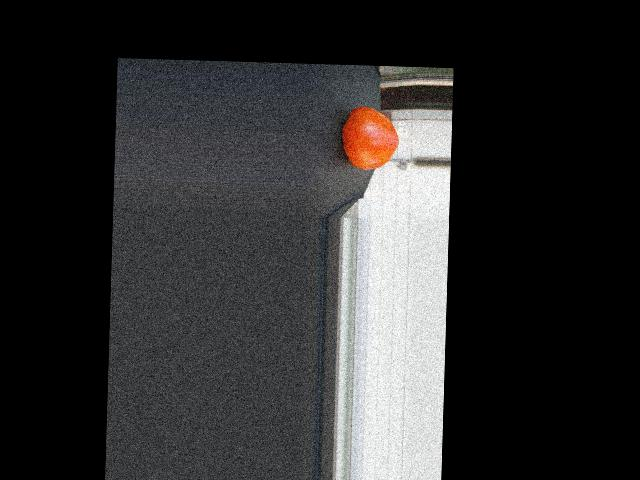tomato: (341, 106, 400, 170)
